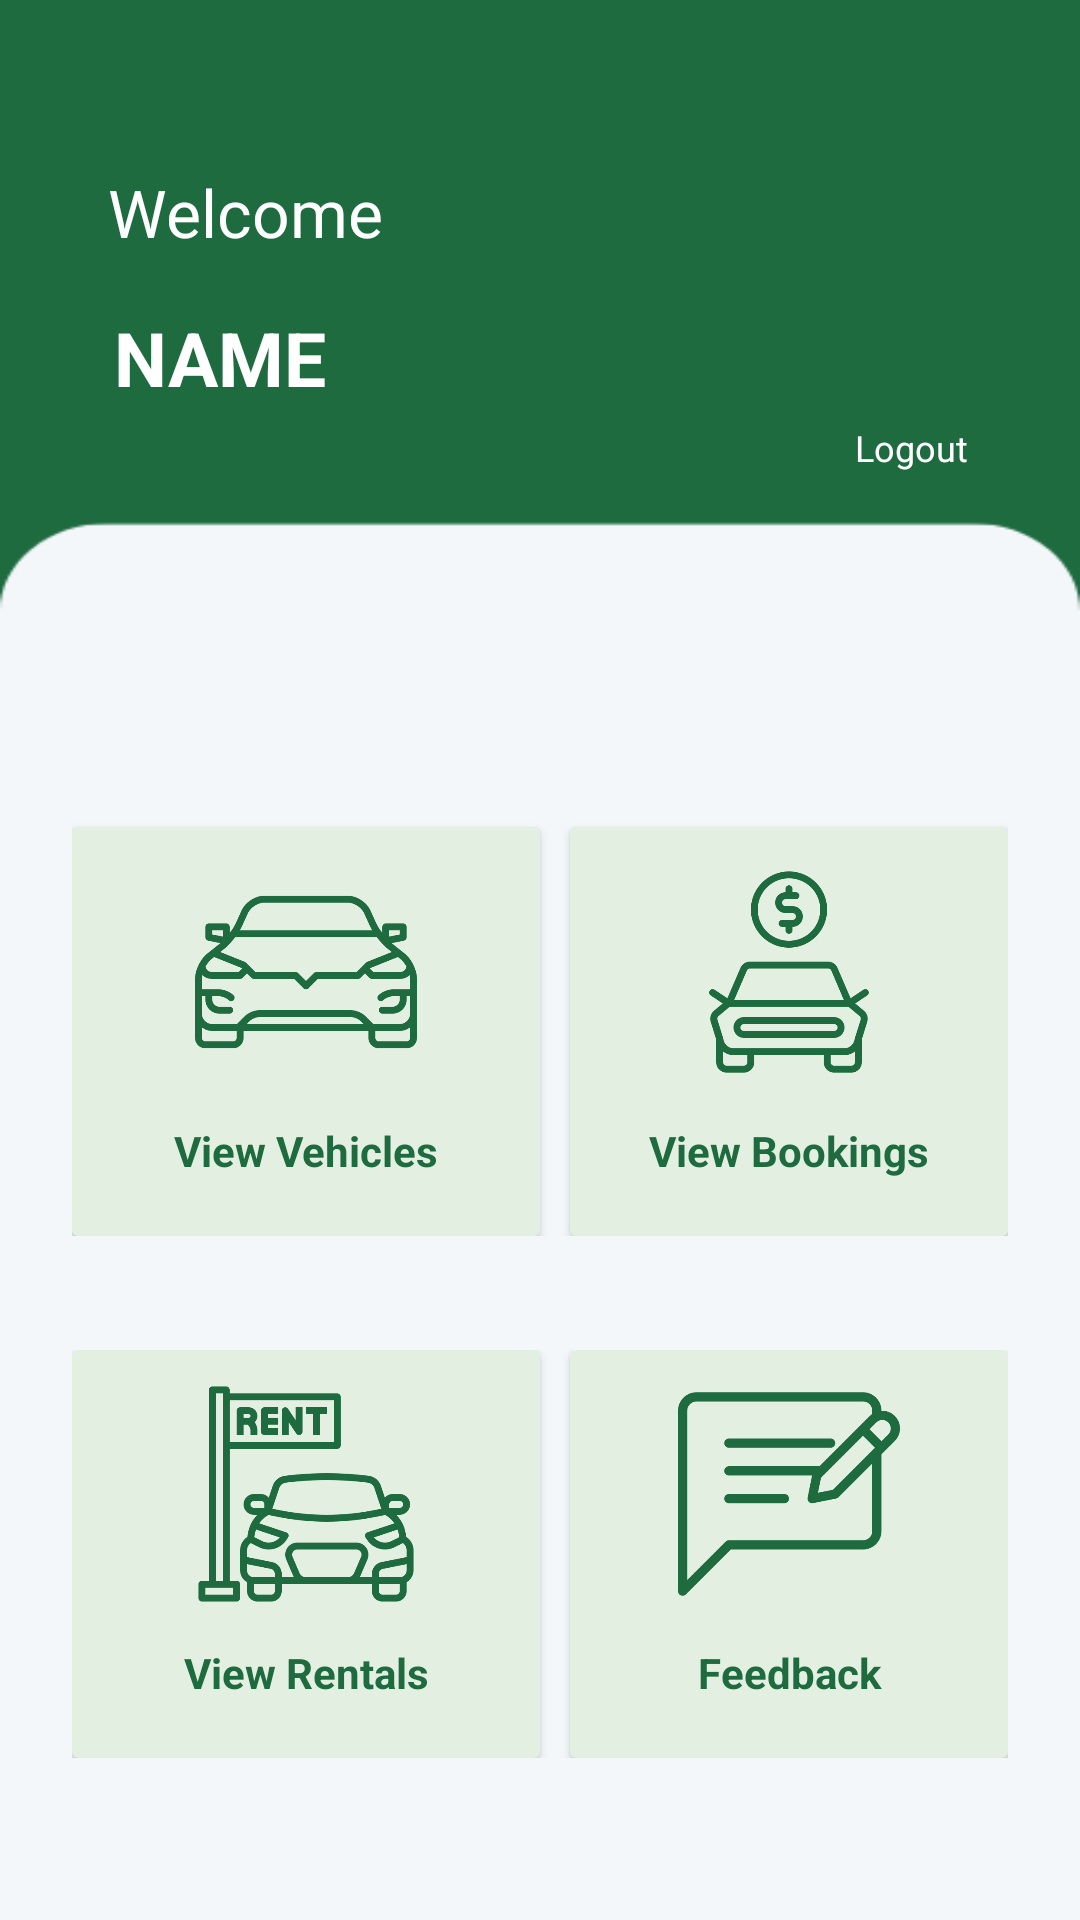

Icons on this 1080x1920 Android screen, each with the point to tap as (x,y):
car: (306,972)
carbooking: (789,972)
carrentals: (306,1494)
